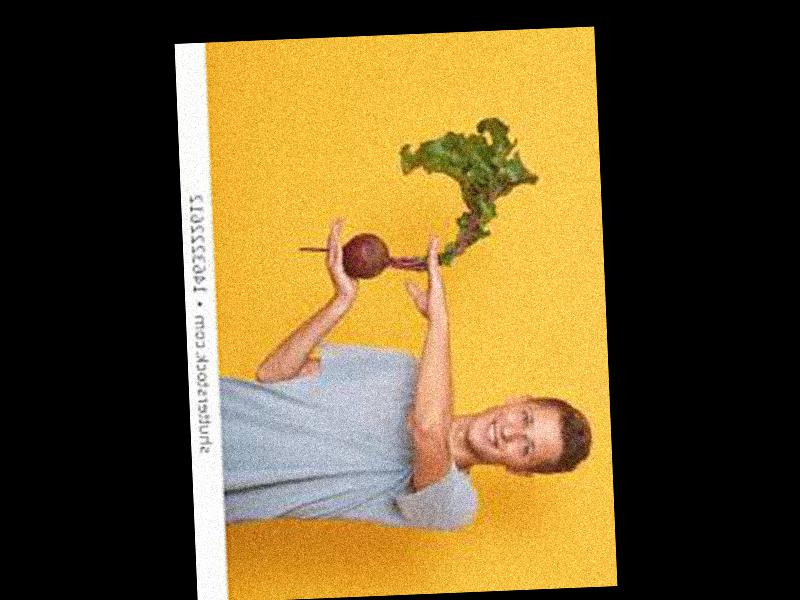Beet: (294, 115, 542, 281)
